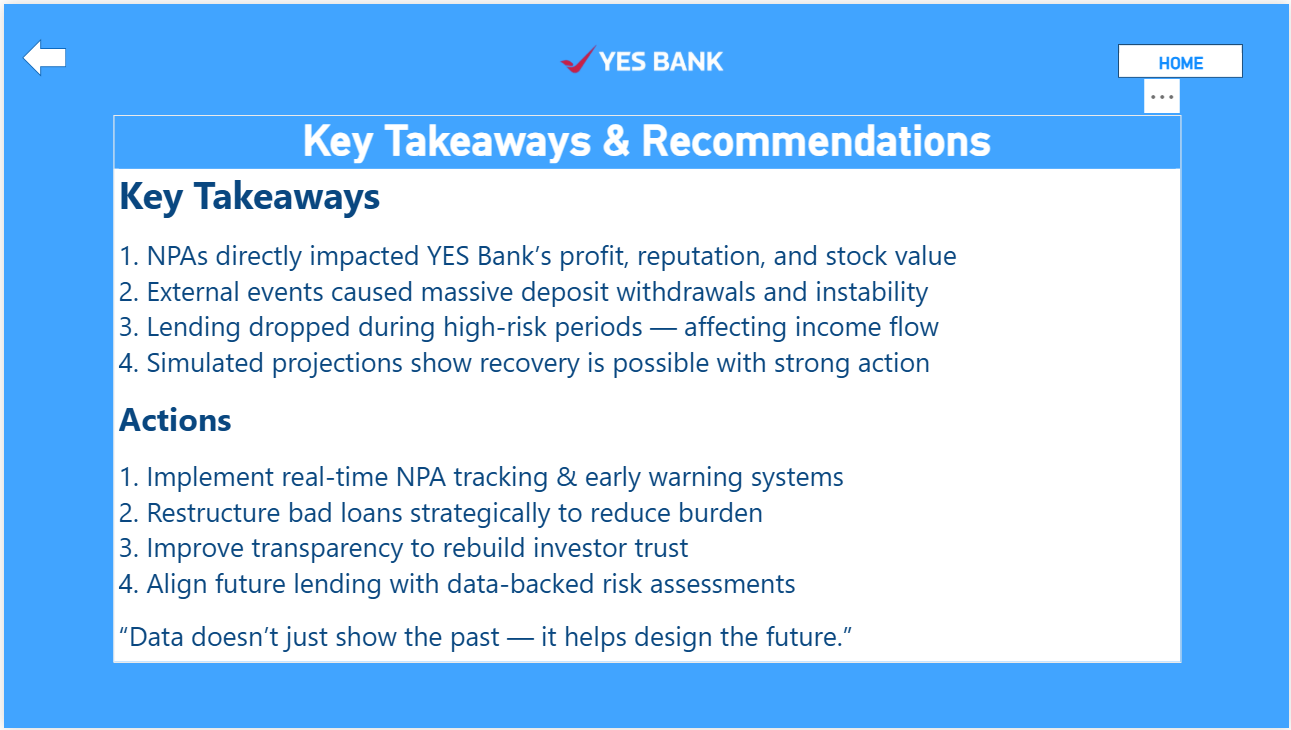

Layout of this report page (visuals, bound fields, positions):
{"tool":"powerbi","page":{"name":"Recommendations","canvas":[1280,720],"ordinal":5},"visuals":[{"type":"textbox","title":"Key Takeaways & Recommendations","box":[109.3,110.5,1061.6,544.2],"z":0},{"type":"image","box":[530.2,0,214,110.5],"z":1000},{"type":"shape","box":[17.6,33.8,44.1,38.2],"z":2000},{"type":"shape","title":"HOME","box":[1108.8,39.7,123.5,32.4],"z":3000}]}

Visuals, with their boxes in screenshot pixels (x1, y1, x2, y2), scaled from the page's 1280x720 canvas onto the 1291x730 screenshot:
"Key Takeaways & Recommendations" textbox: [left=110, top=112, right=1181, bottom=664]
image: [left=535, top=0, right=751, bottom=112]
shape: [left=18, top=34, right=62, bottom=73]
"HOME" shape: [left=1118, top=40, right=1243, bottom=73]
